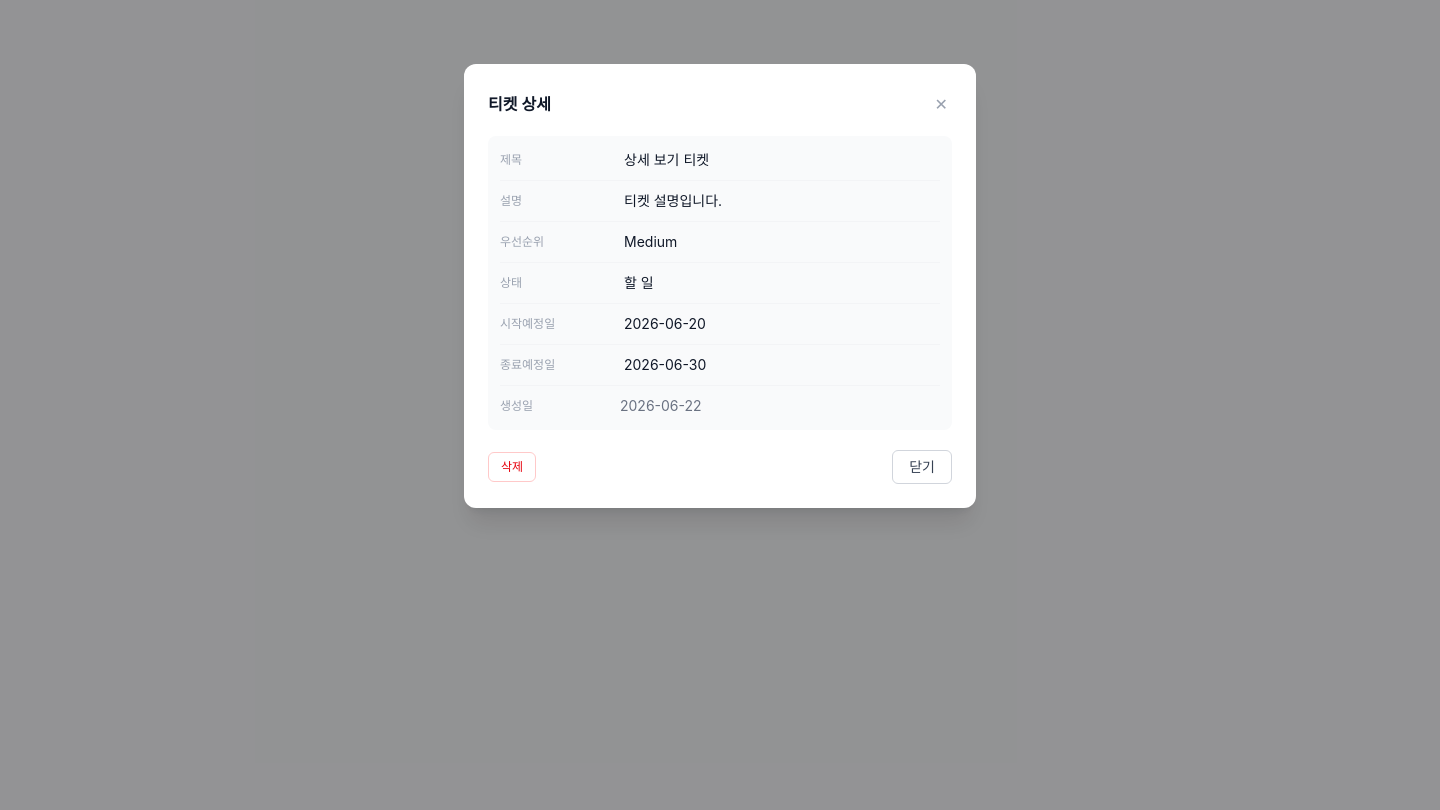
Test: DetailModal — 삭제 흐름 (FR-005, NFR-017) › 삭제 버튼 클릭 → ConfirmDialog 열림
Click the button "삭제": (512, 467) [488,452,536,482]
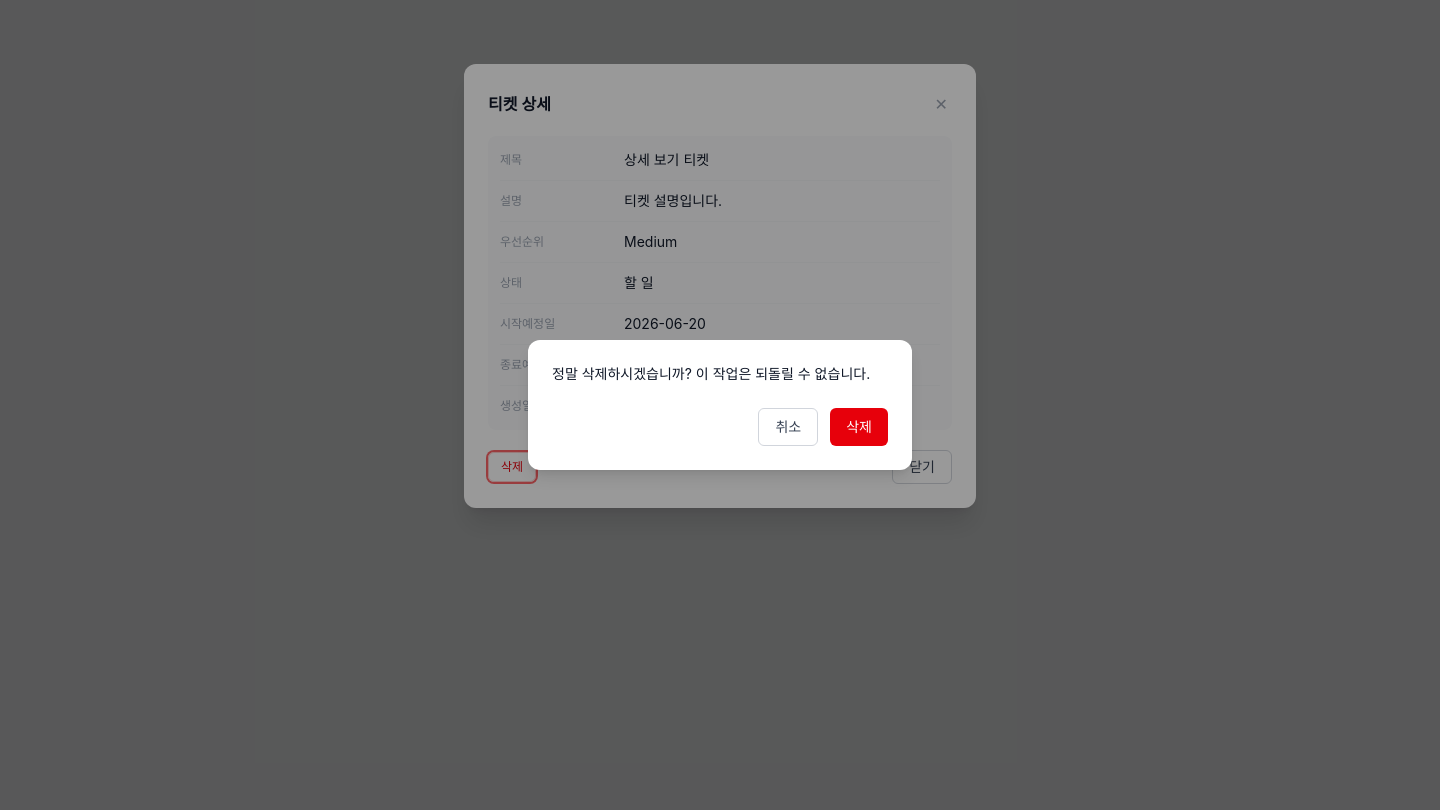
Check: the dialog is shown
